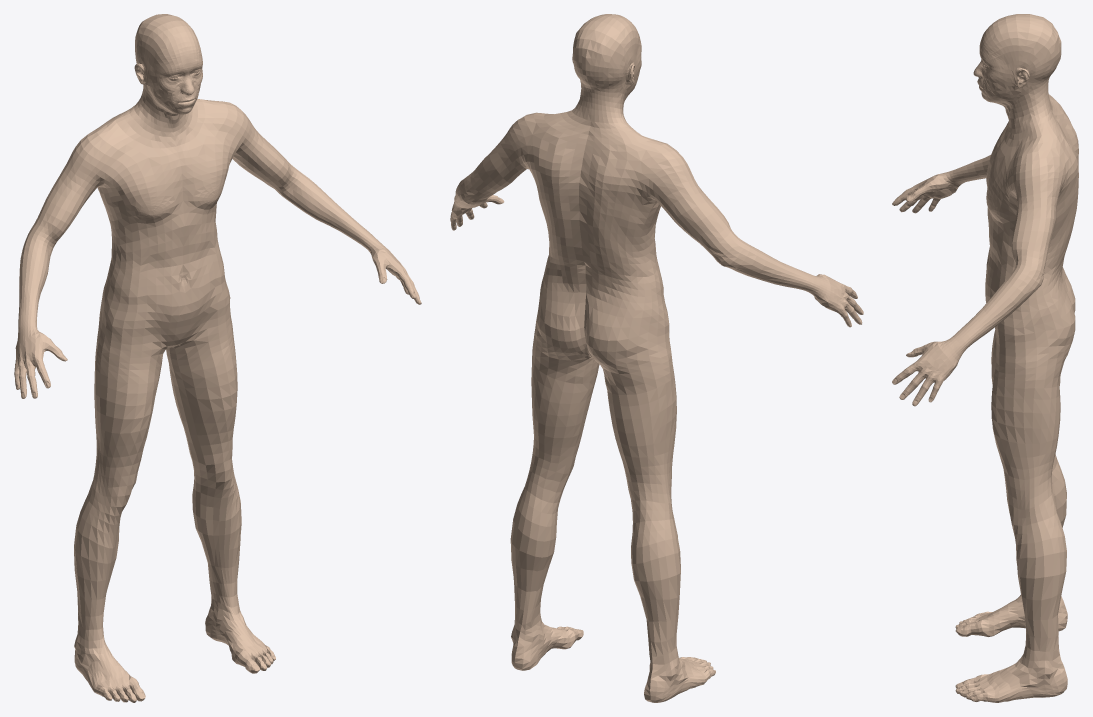
Rendered from male-mature-fit-high.glb.
3 renders of one model, left to right at view 1: azimuth 30°, elevation 25°; view 2: azimuth 150°, elevation 25°; view 3: azimuth 270°, elevation 25°, orthographic.
Visible parts, largest first — view 1: world; view 2: world; view 3: world.
Boxes of the visible parts, x1,y1,x2,y2 form: world: (14, 14, 421, 702); world: (450, 14, 863, 702); world: (892, 14, 1078, 702).
Size of the model in its own units: 1.25 by 1.94 by 0.5077.
